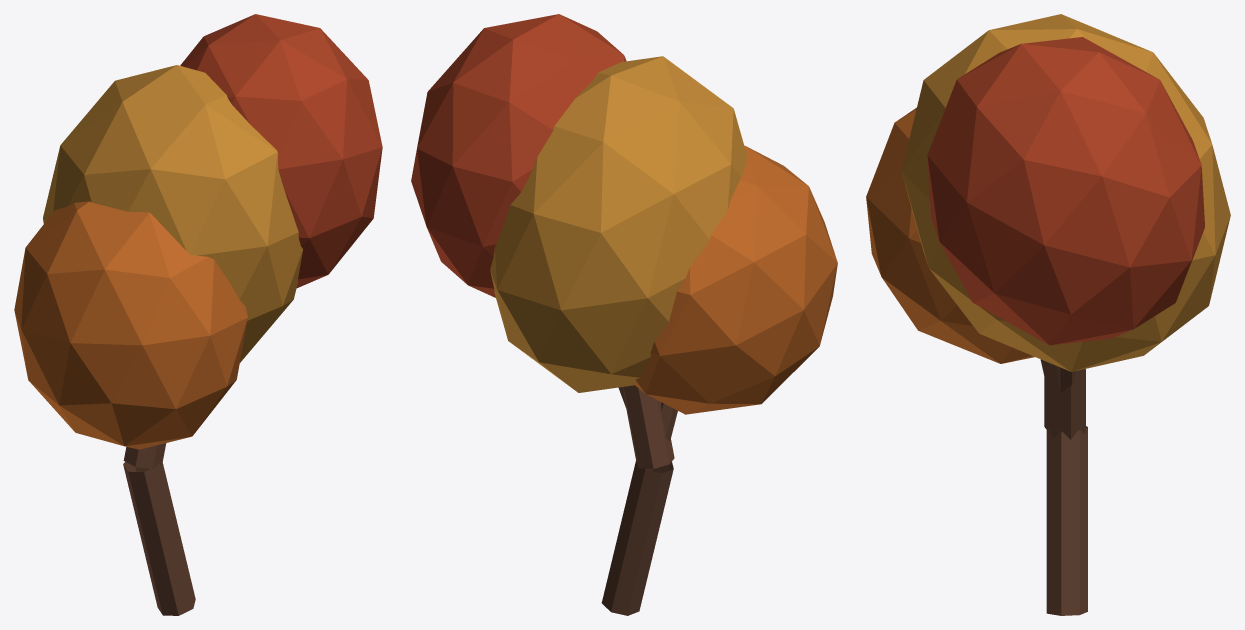
3 renders of one model, left to right at view 1: azimuth 30°, elevation 25°; view 2: azimuth 150°, elevation 25°; view 3: azimuth 270°, elevation 25°, orthographic. The views are drawn at different scales.
Parts seen in each view (by area): view 1: T11_琥珀高冠树; view 2: T11_琥珀高冠树; view 3: T11_琥珀高冠树.
Boxes of the visible parts, x1,y1,x2,y2 form: T11_琥珀高冠树: (14, 14, 382, 615); T11_琥珀高冠树: (411, 14, 837, 615); T11_琥珀高冠树: (866, 14, 1230, 615).
Bounding box in the file's own units: 1.87 × 2.8 × 1.5.
